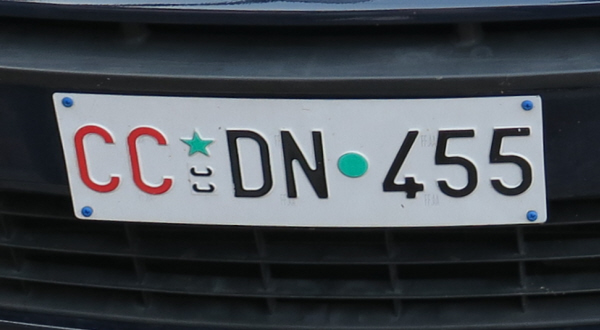license_plate: (51, 90, 548, 226)
